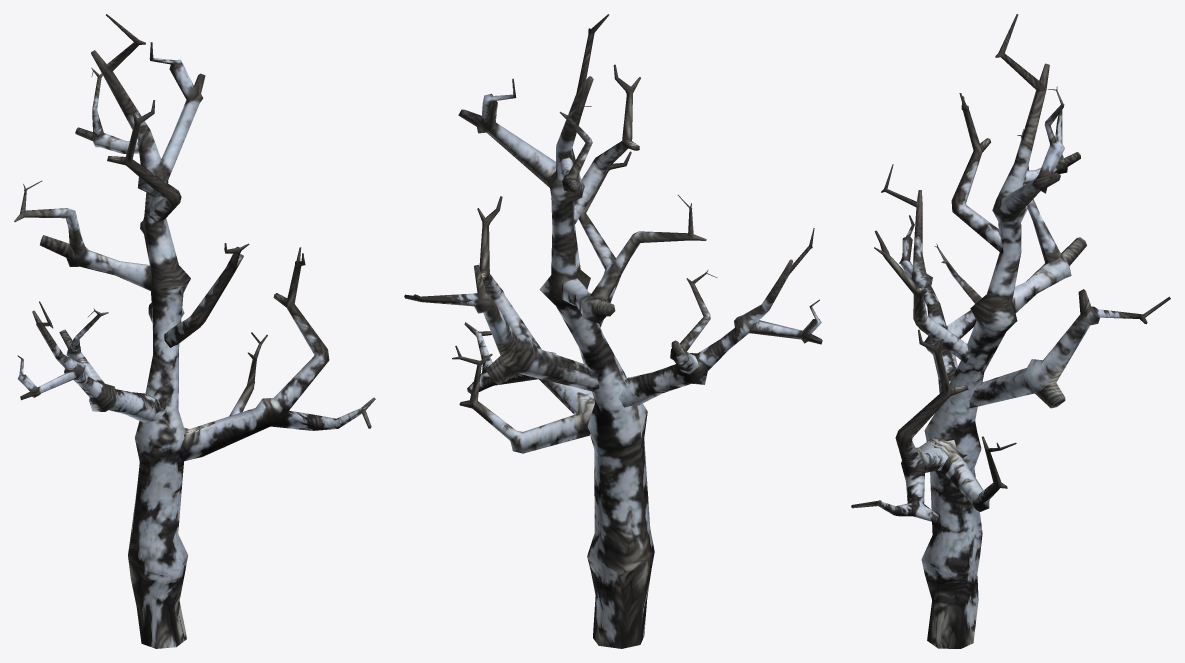
Rendered from Stage_BingYuan_Shu05.FBX.
The picture shows the model from 3 angles, left to right: view 1: azimuth 30°, elevation 25°; view 2: azimuth 150°, elevation 25°; view 3: azimuth 270°, elevation 25°; orthographic projection. The views are drawn at different scales.
Parts seen in each view (by area): view 1: Stage_BingYuan_Shu05; view 2: Stage_BingYuan_Shu05; view 3: Stage_BingYuan_Shu05.
Boxes of the visible parts, left/top/right/bottom form: Stage_BingYuan_Shu05: left=14, top=14, right=375, bottom=648; Stage_BingYuan_Shu05: left=404, top=14, right=822, bottom=648; Stage_BingYuan_Shu05: left=851, top=14, right=1170, bottom=648.
Size of the model in its own units: 421 by 711 by 336.
